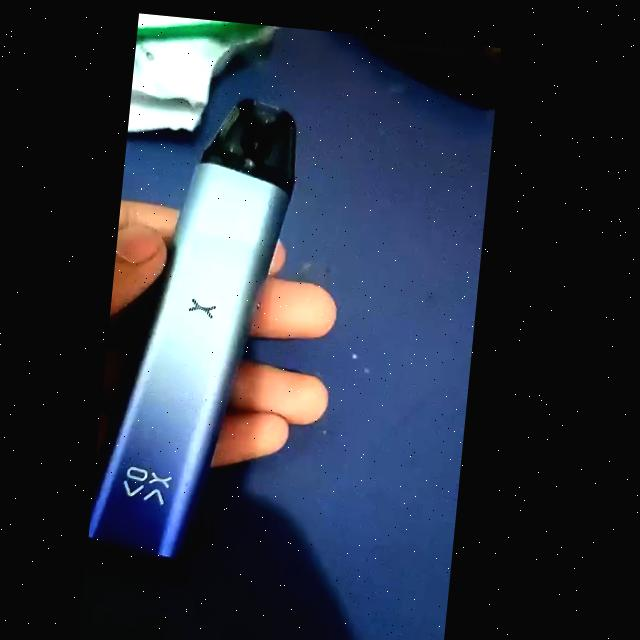vape: (98, 81, 307, 572)
